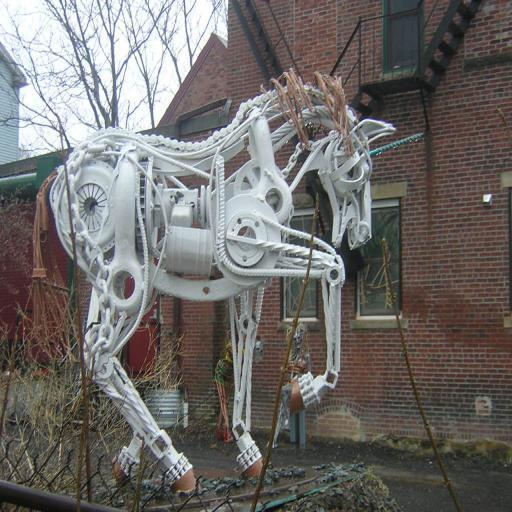horse: (34, 70, 396, 492)
